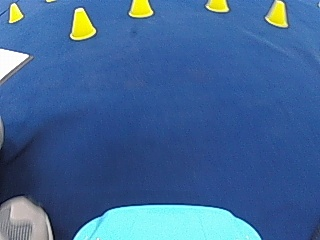cone: (3, 197, 49, 239), (69, 6, 96, 39), (264, 0, 288, 27), (128, 0, 153, 17), (8, 2, 23, 22), (207, 0, 228, 12)
